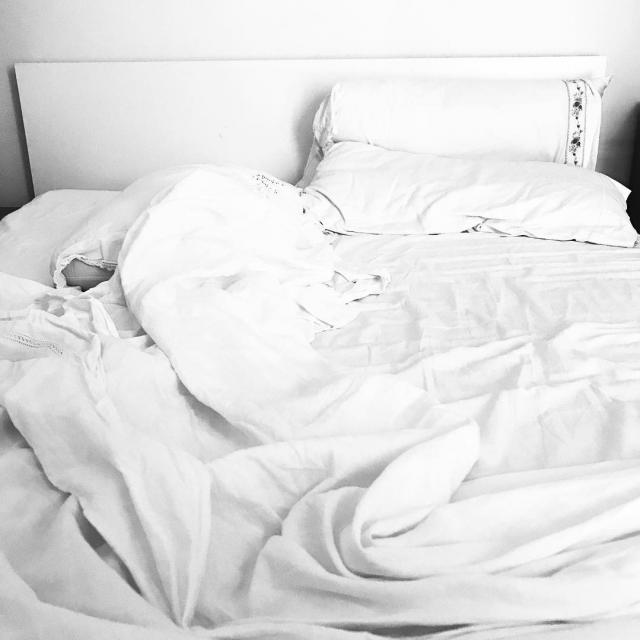bed: (3, 69, 640, 639)
